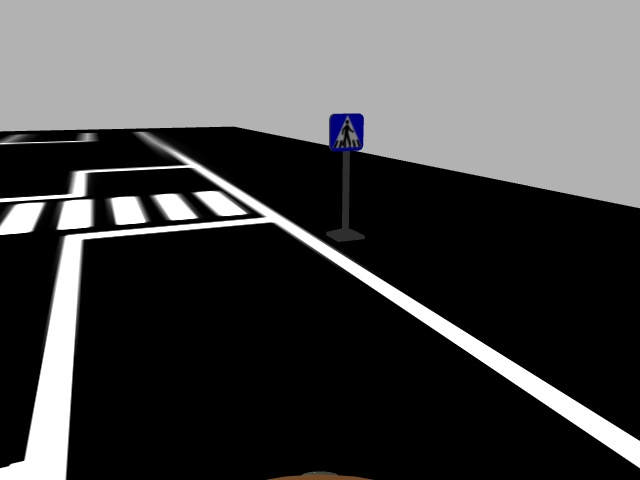crosswalk: (327, 111, 366, 154)
